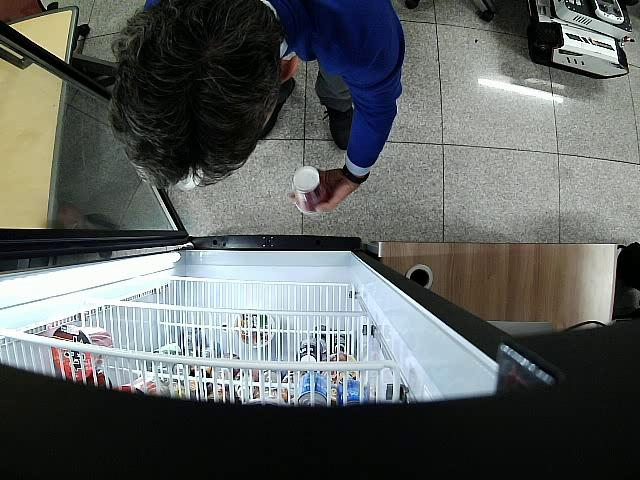00_hand: (285, 168, 358, 213)
06_nuguri_S: (293, 165, 331, 214)
